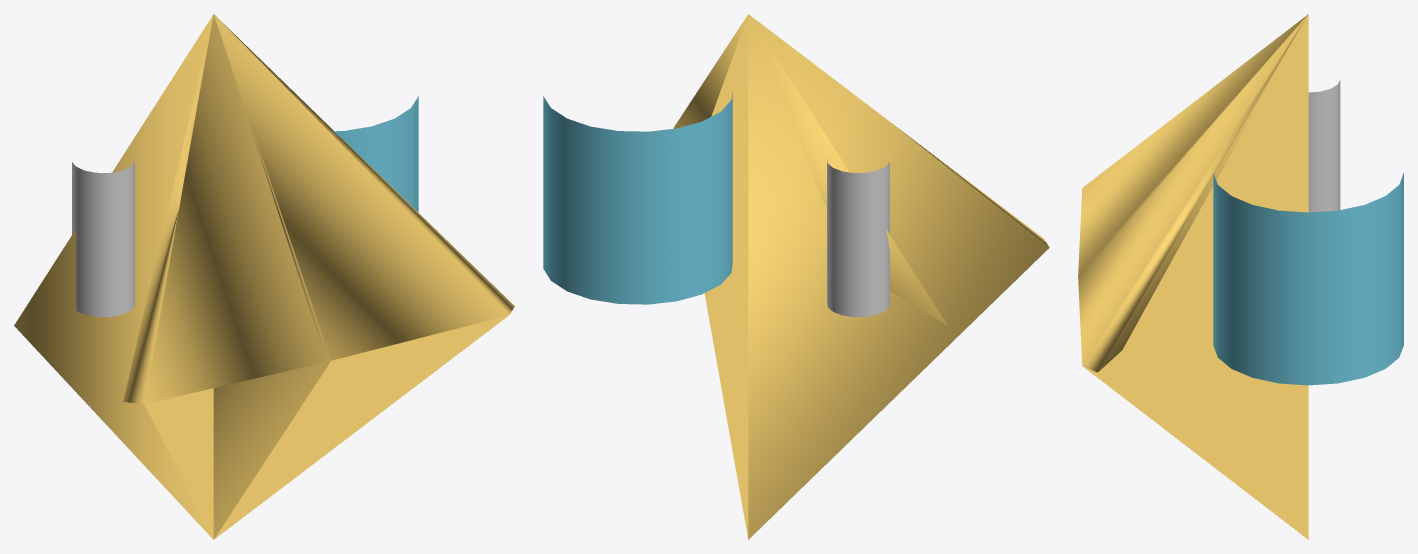
Rendered from pascals_law.glb.
3 views of the same model, side by side, from view 1: azimuth 30°, elevation 25°; view 2: azimuth 150°, elevation 25°; view 3: azimuth 270°, elevation 25° (orthographic).
Parts seen in each view (by area): view 1: FluidConnectingTube, MasterCylinder, SlaveCylinder; view 2: FluidConnectingTube, SlaveCylinder, MasterCylinder; view 3: FluidConnectingTube, SlaveCylinder, MasterCylinder.
Part boxes in pixels (left/top/right/bottom): FluidConnectingTube: left=14, top=14, right=514, bottom=539; MasterCylinder: left=72, top=159, right=134, bottom=317; SlaveCylinder: left=333, top=96, right=418, bottom=212; FluidConnectingTube: left=673, top=14, right=1049, bottom=539; SlaveCylinder: left=543, top=92, right=732, bottom=304; MasterCylinder: left=827, top=159, right=889, bottom=317; FluidConnectingTube: left=1078, top=14, right=1308, bottom=539; SlaveCylinder: left=1213, top=173, right=1403, bottom=385; MasterCylinder: left=1308, top=80, right=1340, bottom=212.
Size of the model in its own units: 2.87 by 3.65 by 2.05.
